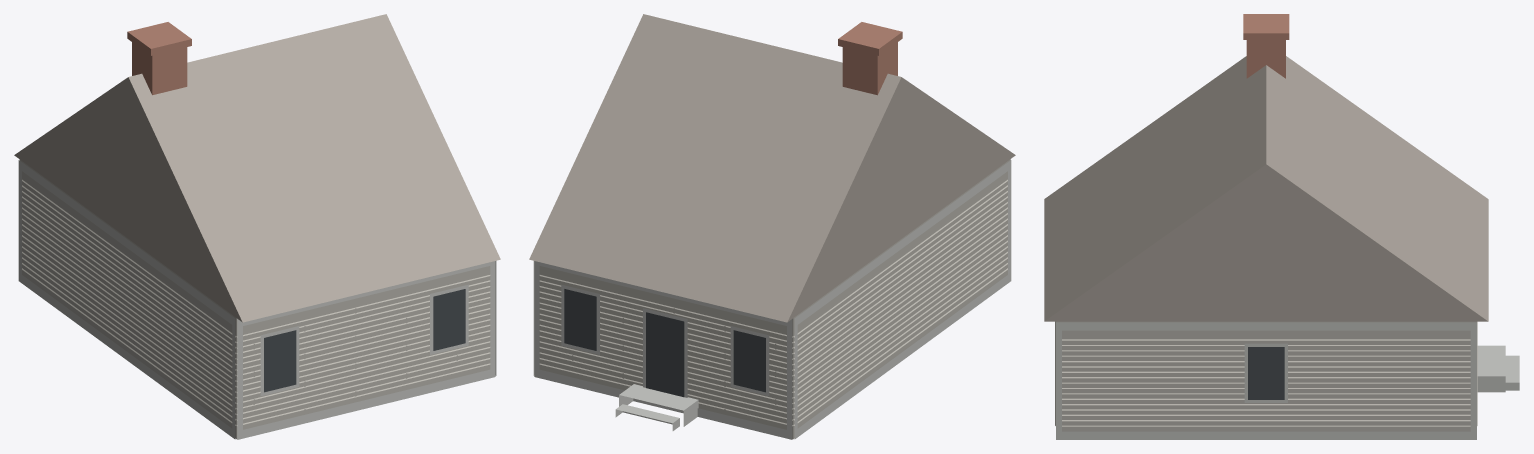
The model's file is recon_1835_south_d5_011__inferred_1835.glb.
3 views of the same model, side by side, from view 1: azimuth 30°, elevation 25°; view 2: azimuth 150°, elevation 25°; view 3: azimuth 270°, elevation 25° (orthographic). The views are drawn at different scales.
Parts seen in each view (by area): view 1: recon_1835_south_d5_011__inferred_1835; view 2: recon_1835_south_d5_011__inferred_1835; view 3: recon_1835_south_d5_011__inferred_1835.
Part boxes in pixels (box(x1,y1,x2,y2)): recon_1835_south_d5_011__inferred_1835: box(14, 14, 500, 439); recon_1835_south_d5_011__inferred_1835: box(529, 14, 1015, 439); recon_1835_south_d5_011__inferred_1835: box(1044, 14, 1519, 439).
Size of the model in its own units: 6.28 by 7.27 by 10.18.
